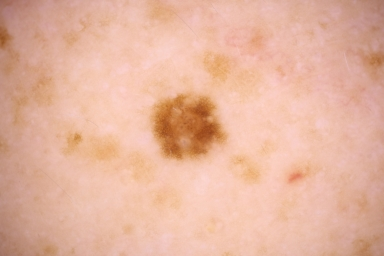nevus: (151, 93, 225, 157)
